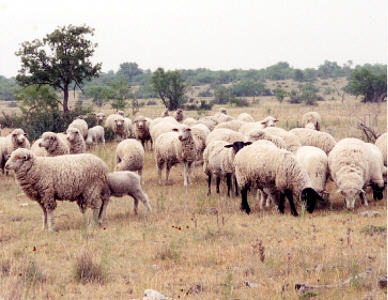sheep: (8, 153, 108, 240), (232, 142, 320, 223), (328, 136, 367, 219), (151, 127, 201, 190), (106, 169, 156, 217), (222, 115, 289, 145), (116, 138, 148, 177), (294, 109, 327, 145), (157, 113, 200, 133), (37, 131, 66, 154), (1, 130, 26, 156), (109, 114, 133, 140), (133, 117, 157, 141), (72, 118, 98, 137), (87, 126, 106, 147)
